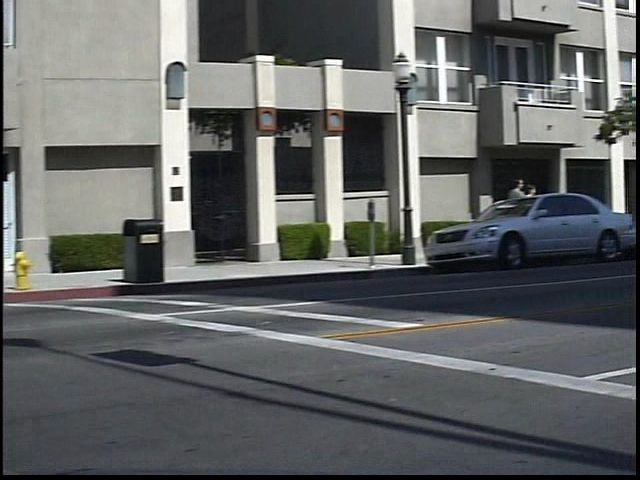person: (516, 172, 540, 248), (535, 180, 555, 242)
